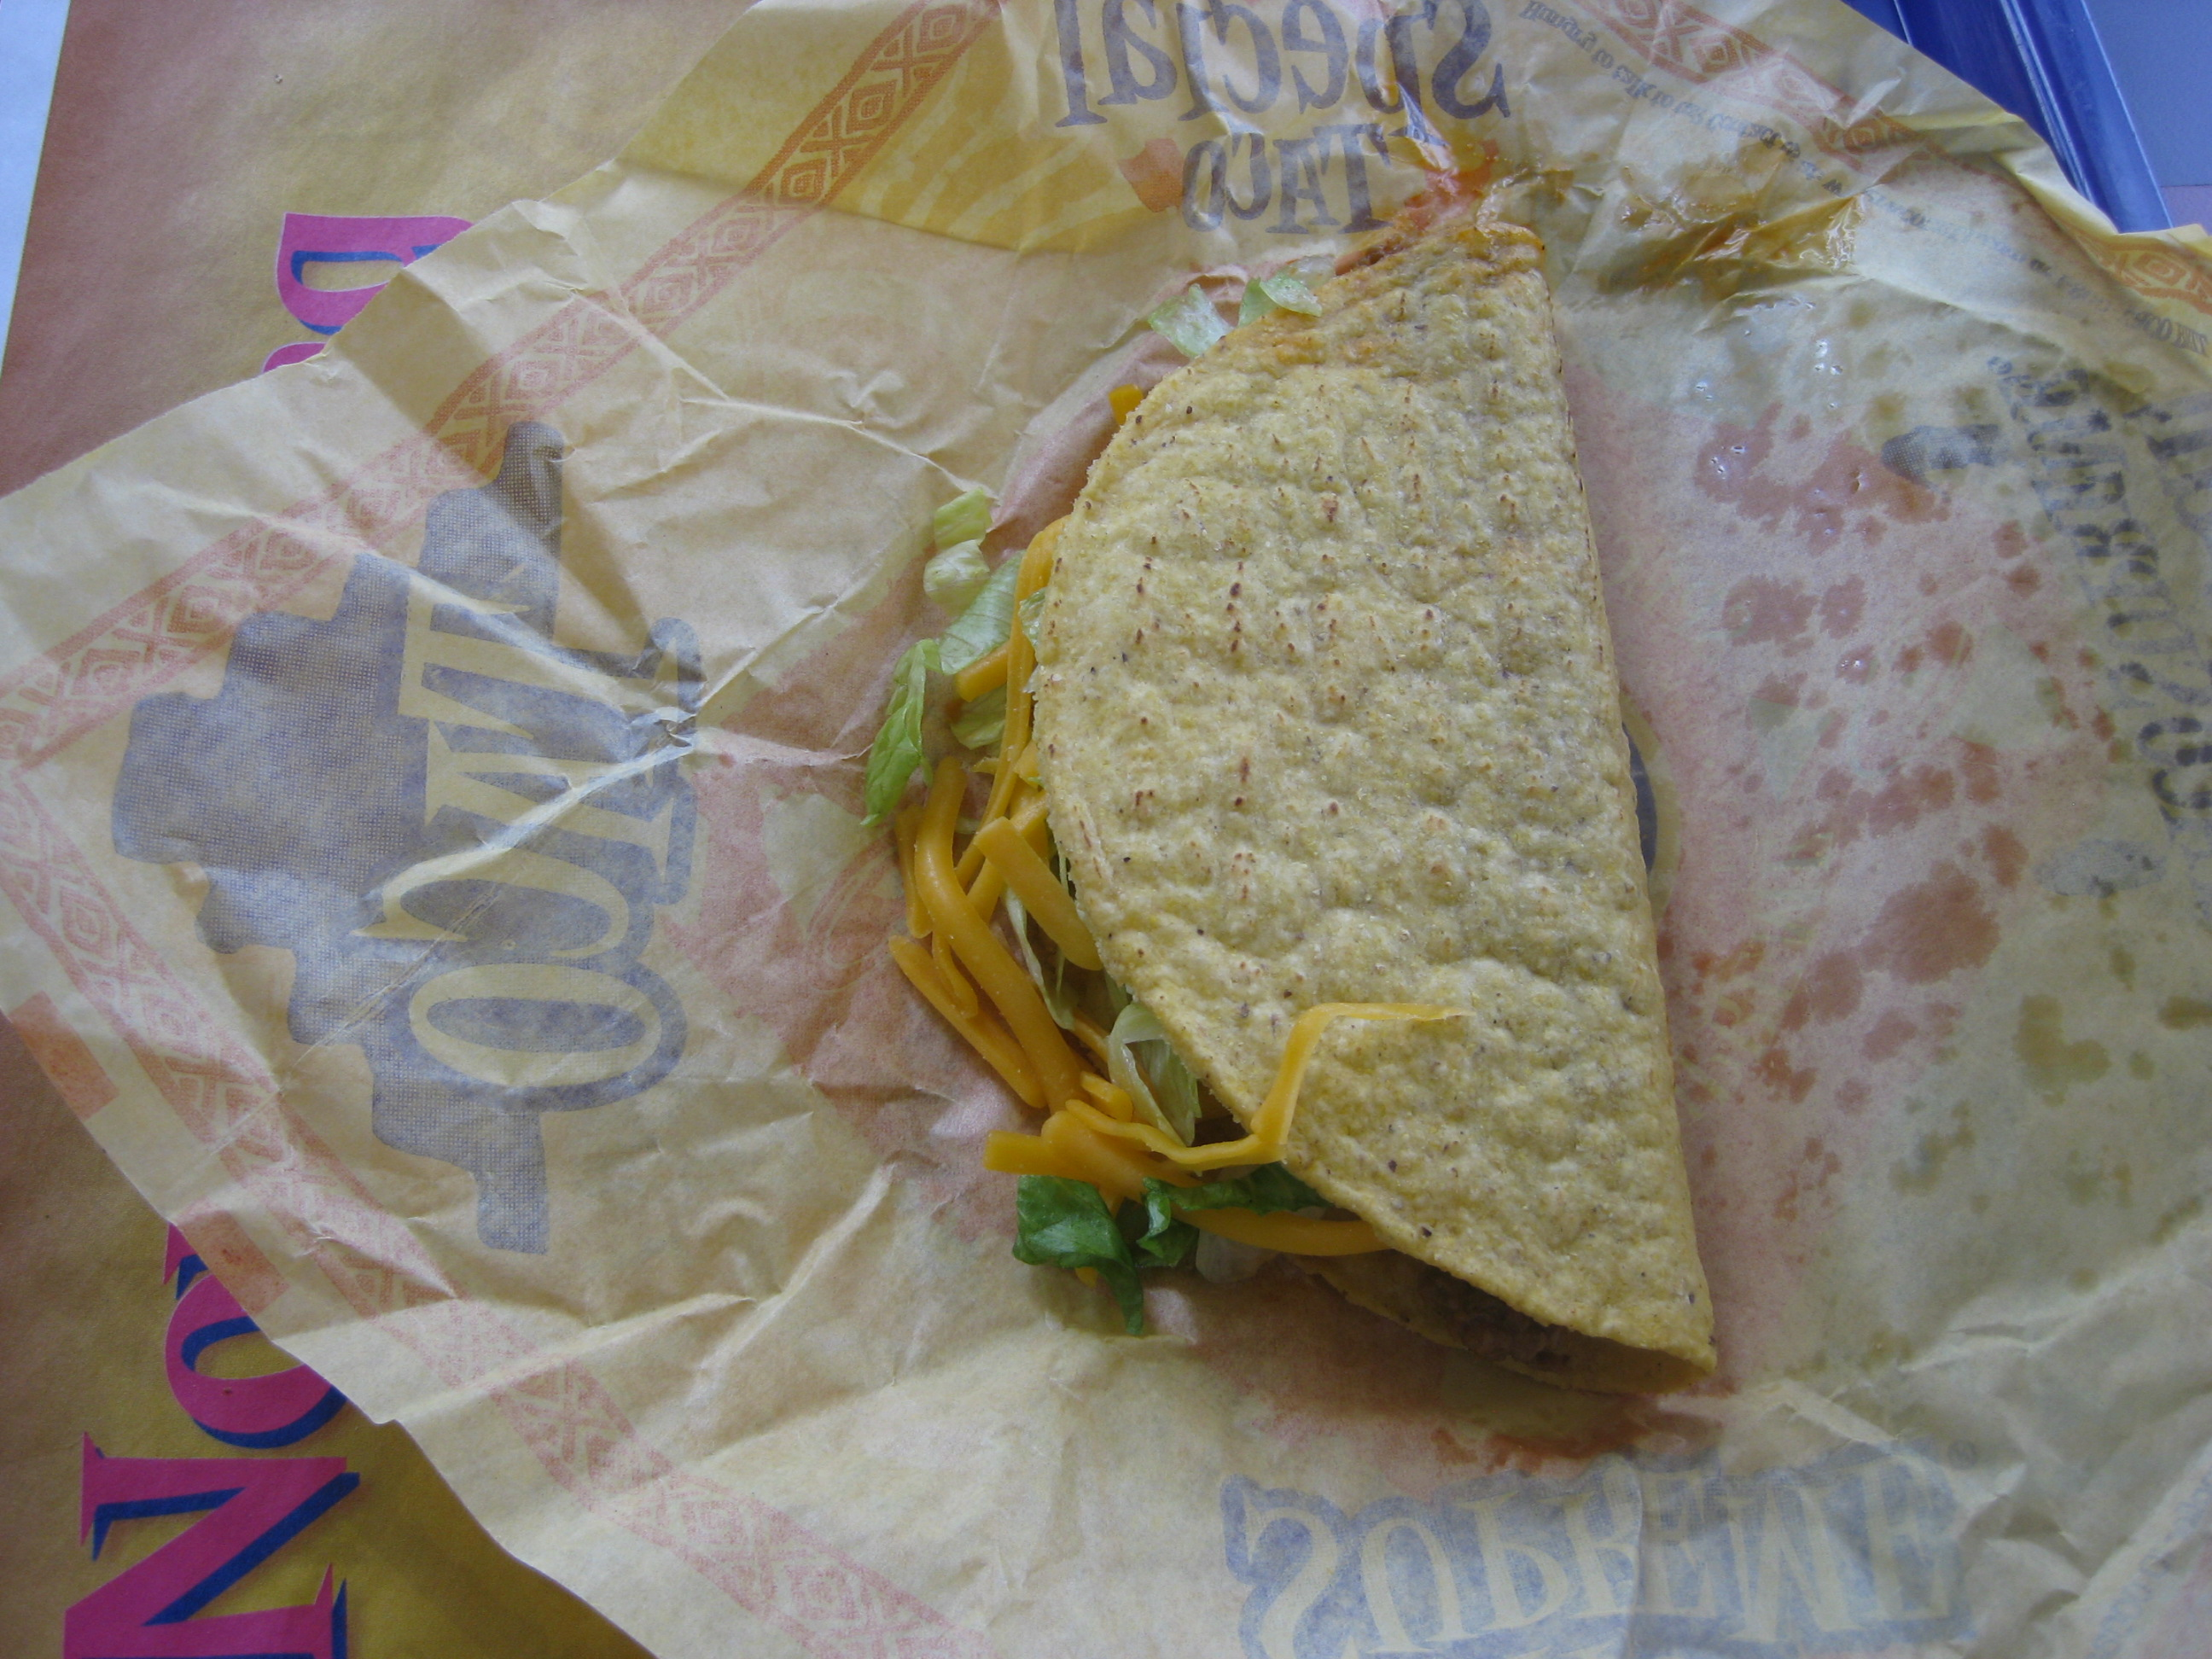taco: (932, 160, 1830, 1493)
